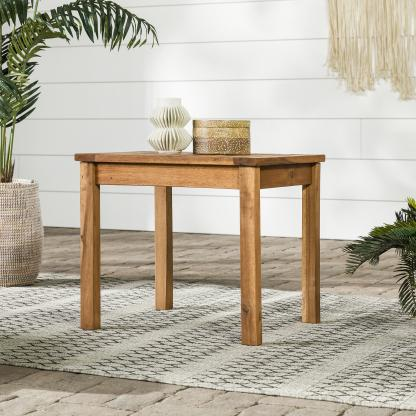table: (69, 146, 331, 349)
